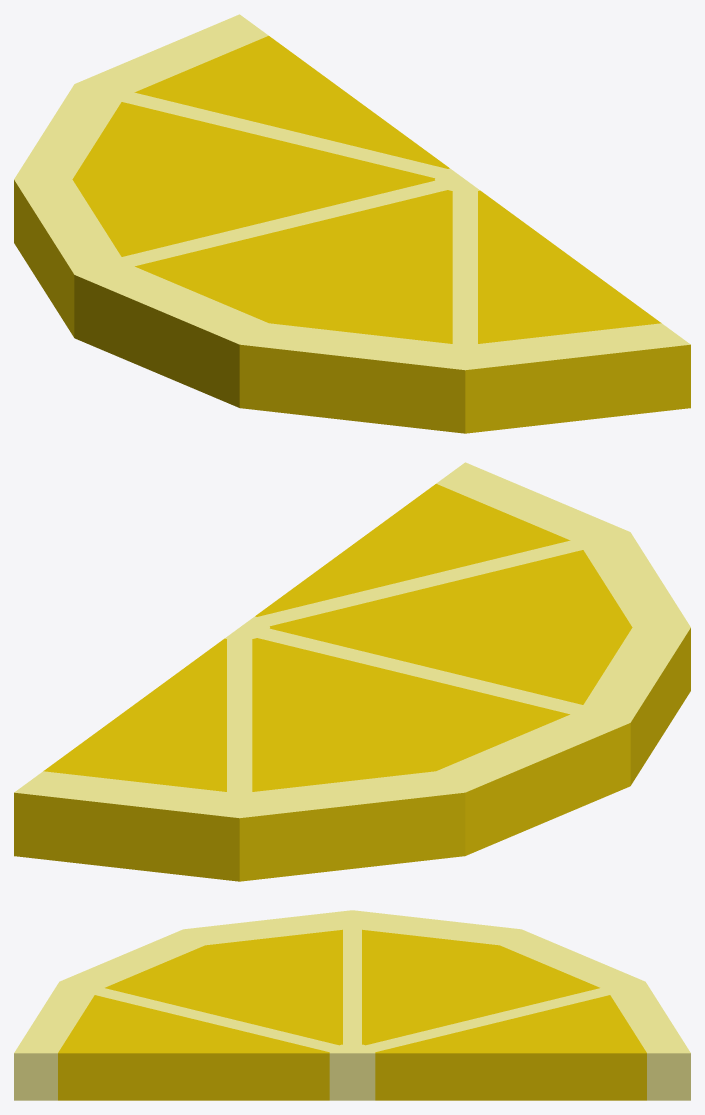
Rendered from Lemon_02.fbx.
3 views of the same model, one above another, from view 1: azimuth 30°, elevation 25°; view 2: azimuth 150°, elevation 25°; view 3: azimuth 270°, elevation 25° (orthographic). The views are drawn at different scales.
Parts seen in each view (by area): view 1: Lemon_02; view 2: Lemon_02; view 3: Lemon_02.
Part boxes in pixels (x1,y1,x2,y2): Lemon_02: (14, 14, 690, 433); Lemon_02: (14, 462, 690, 881); Lemon_02: (14, 910, 690, 1100).
Size of the model in its own units: 4.03 by 0.6257 by 8.06.
